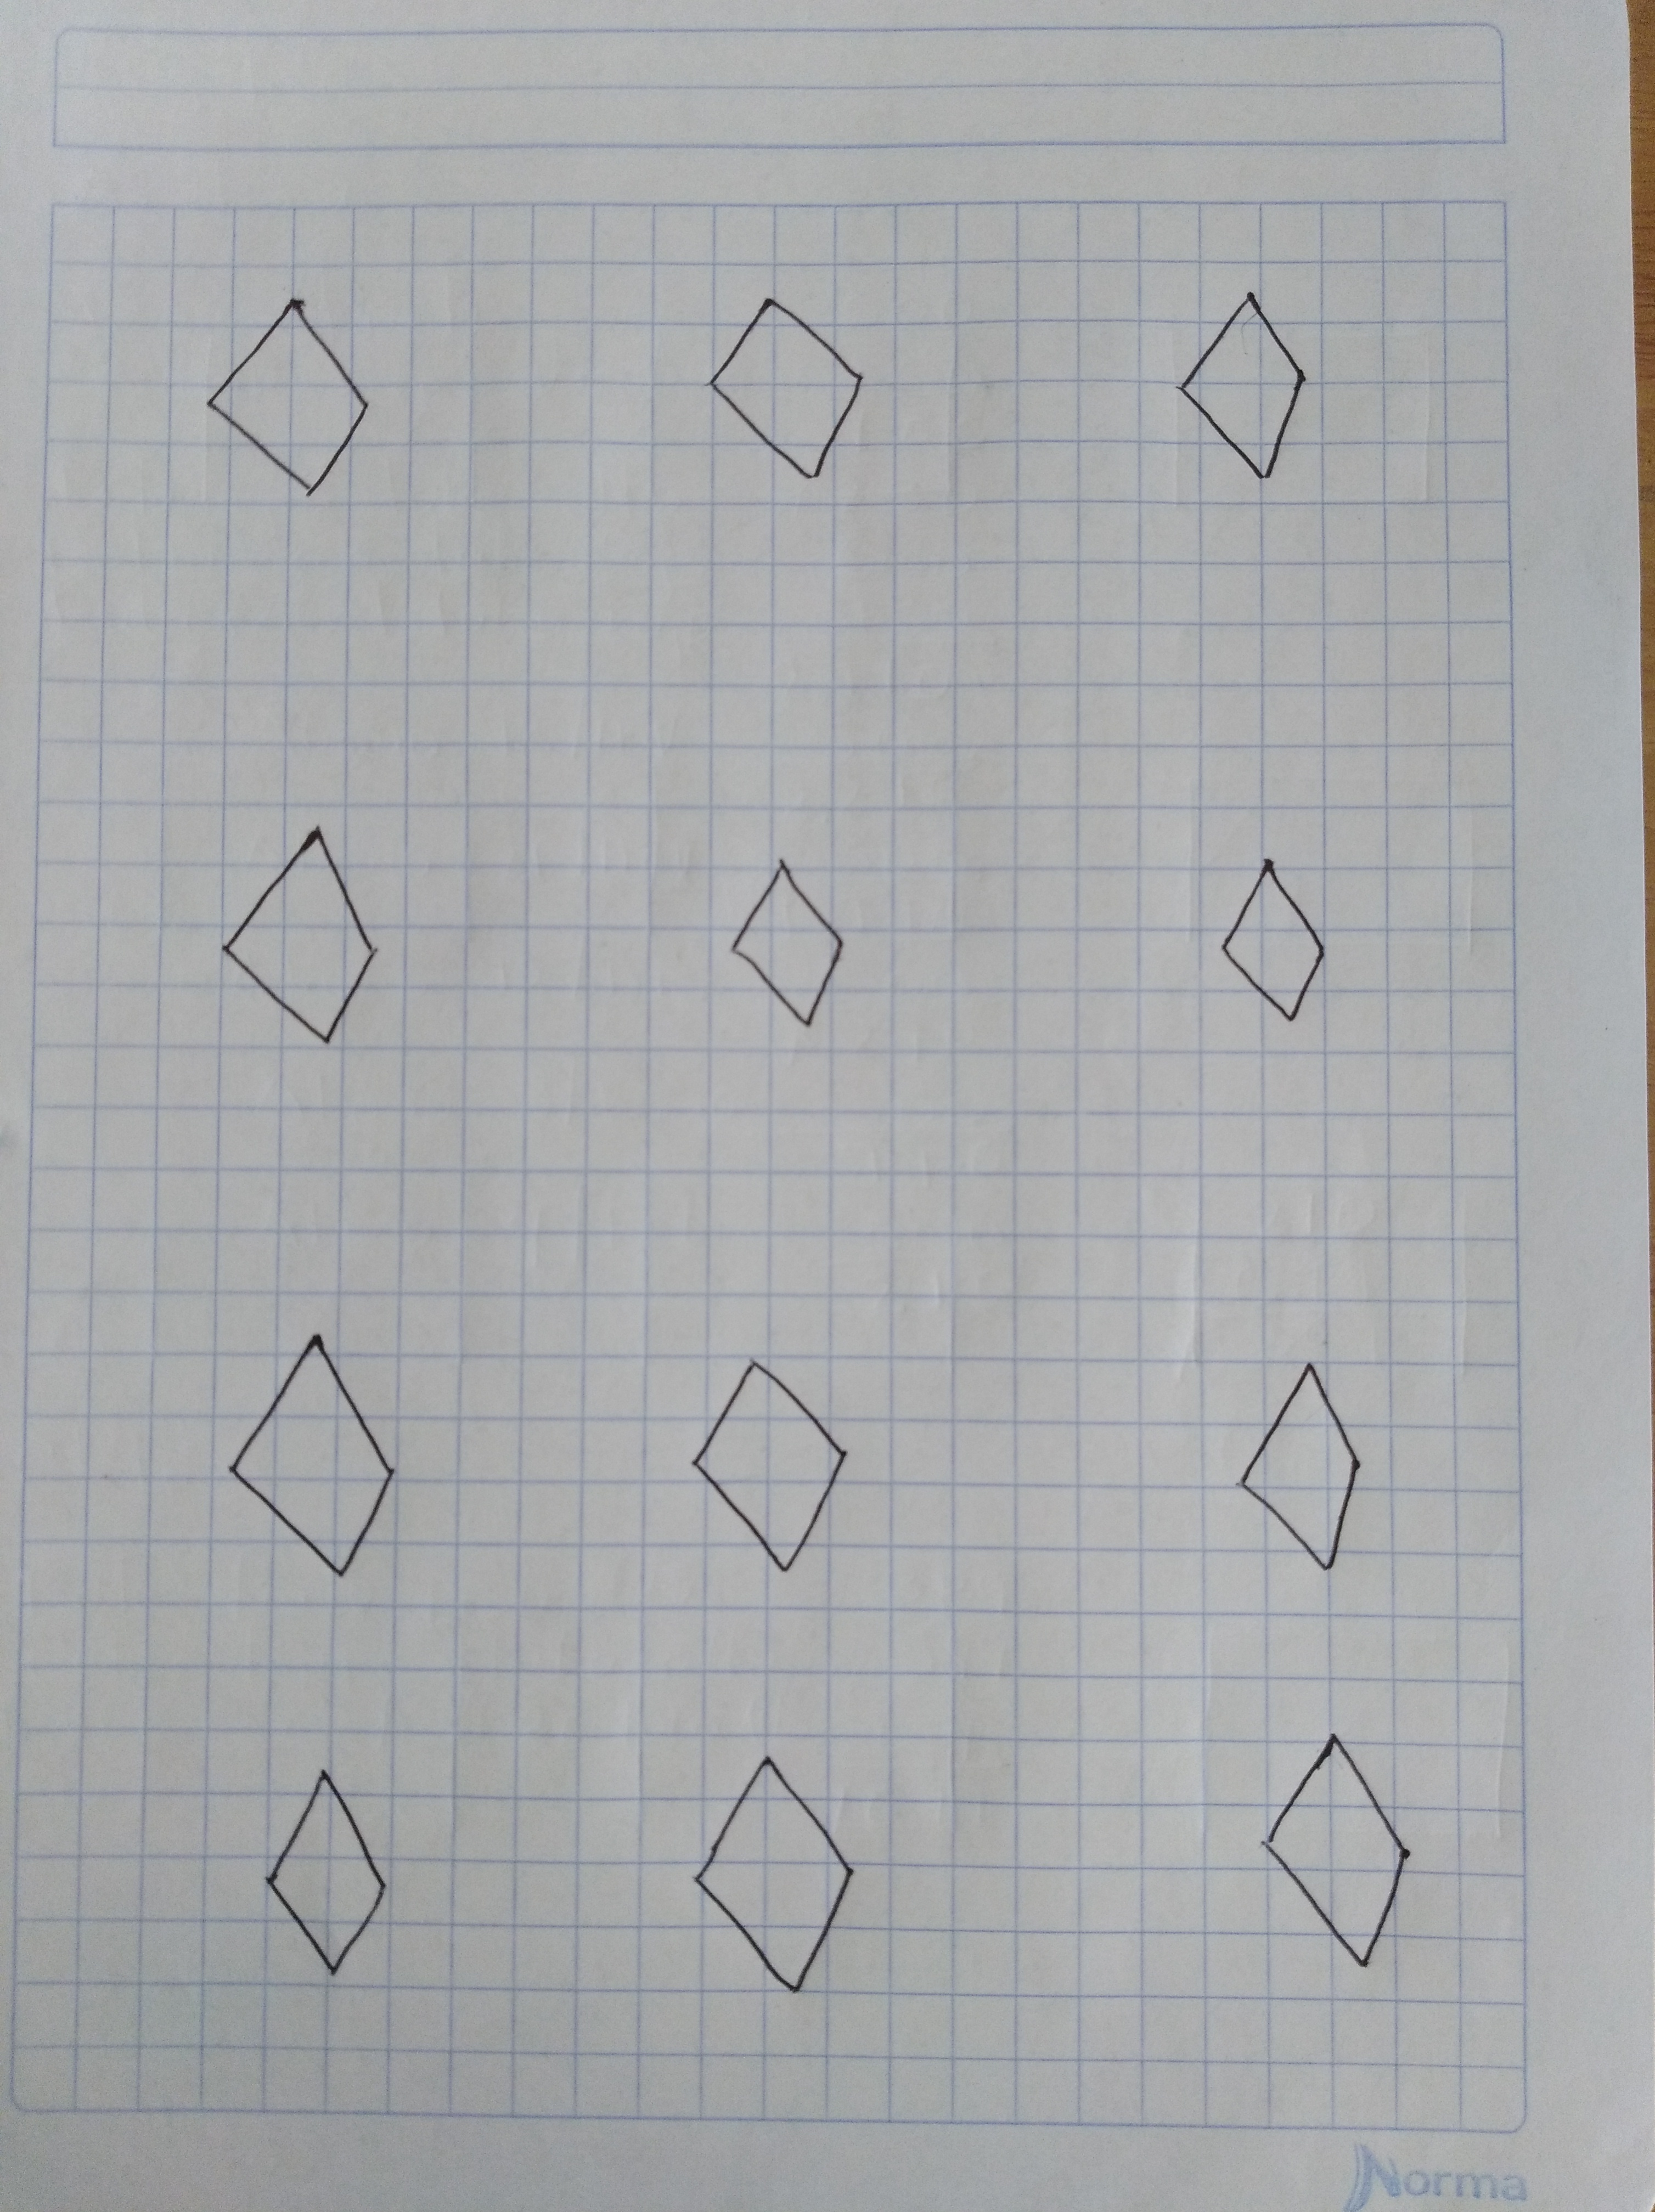decision: (163, 1305, 455, 1619), (136, 259, 445, 530), (654, 1729, 907, 2042), (633, 1315, 901, 1609), (1217, 1703, 1467, 2007), (181, 798, 435, 1086), (640, 259, 918, 520), (1182, 1340, 1436, 1595), (1123, 269, 1368, 523), (681, 805, 894, 1093), (226, 1746, 438, 2000), (1175, 818, 1391, 1062)
